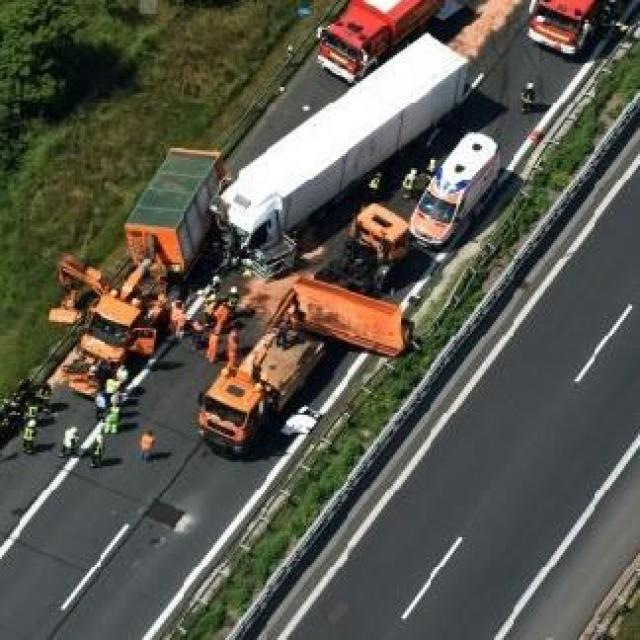traffic_incident: (63, 148, 227, 397), (201, 251, 407, 438)
